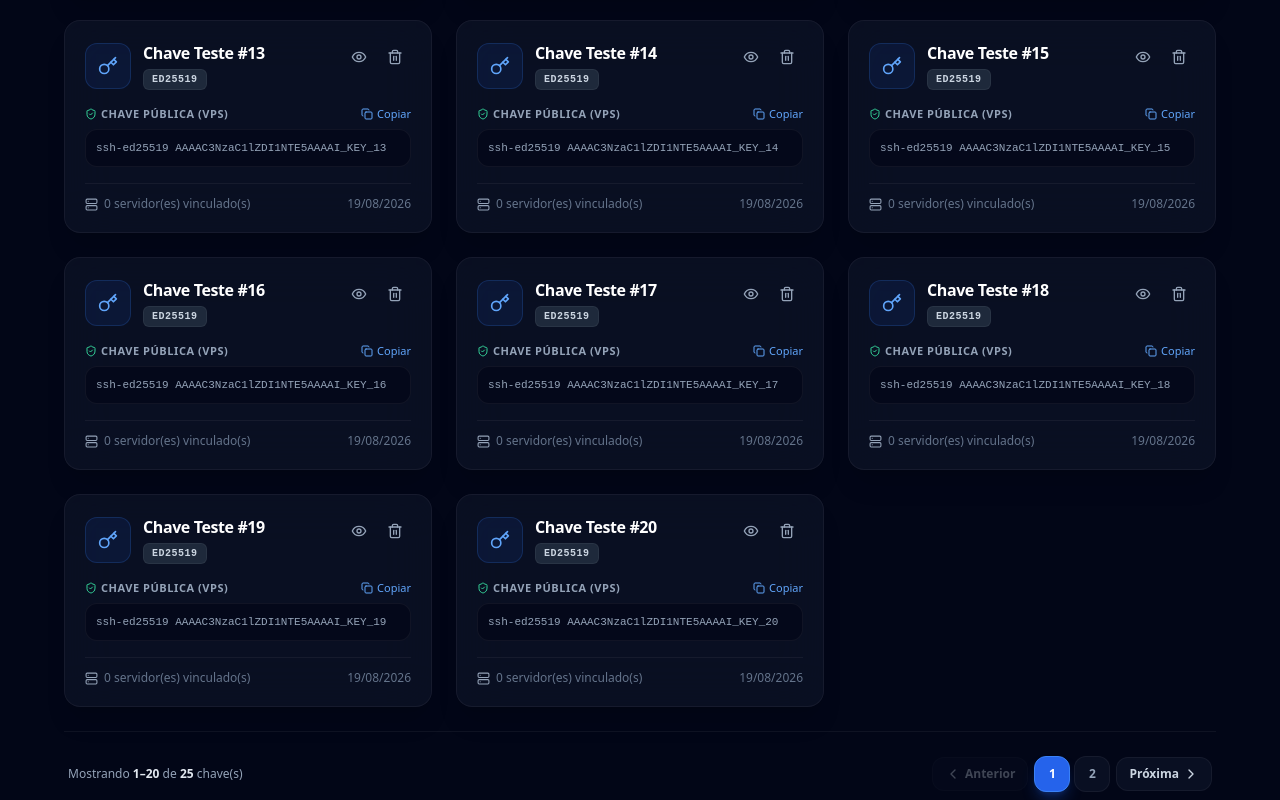
Test: SshKeys Page Component › pagina as chaves limitando a no máximo 20 por página
(page scrolled)
Expected: the heading "Chave Teste #20" is shown, [535, 515, 657, 539]
Expected: the text "Chave Teste #21" is not shown
// Clica na página 2
Click the button named "Página 2": point(1092, 774) [1074, 756, 1110, 792]
(page scrolled)
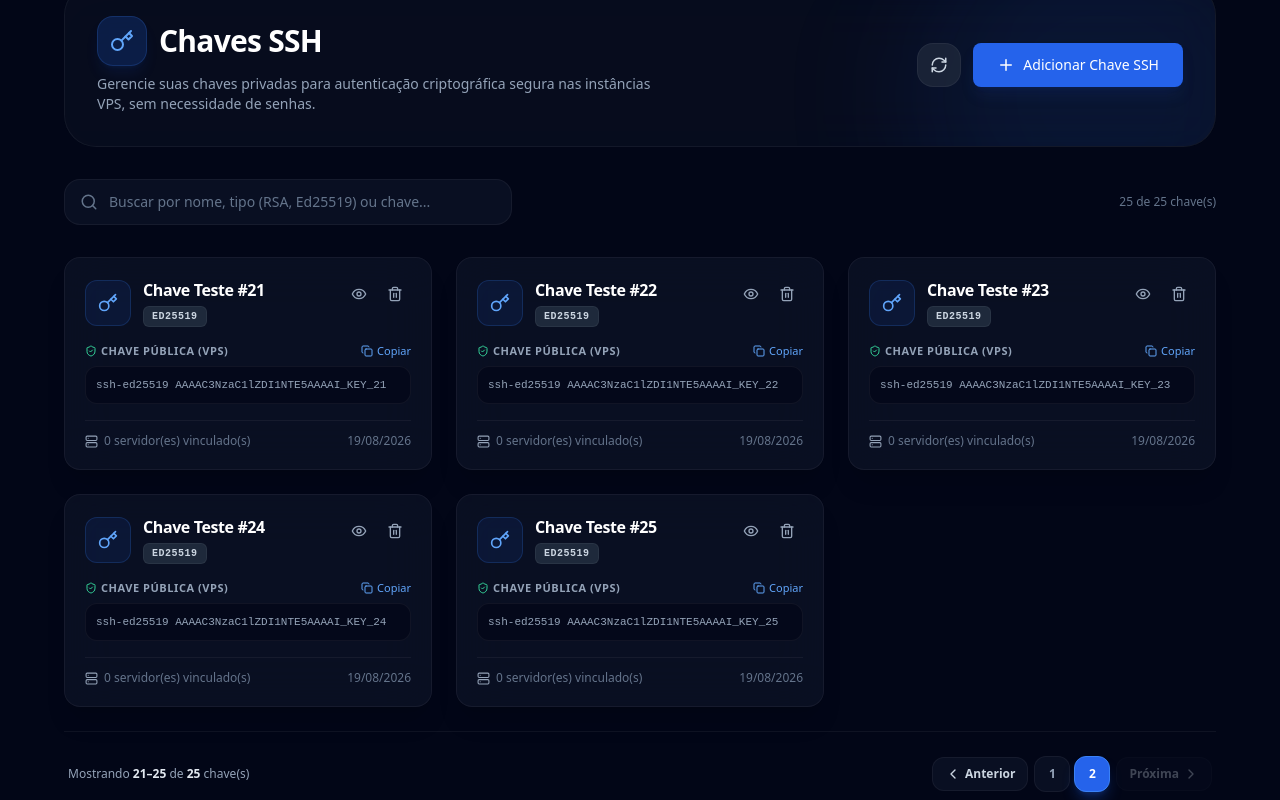
Now the heading "Chave Teste #21" is shown, box [143, 278, 265, 302]
Now the heading "Chave Teste #25" is shown, box [535, 515, 657, 539]
Now the heading "Chave Teste #1" is gone
